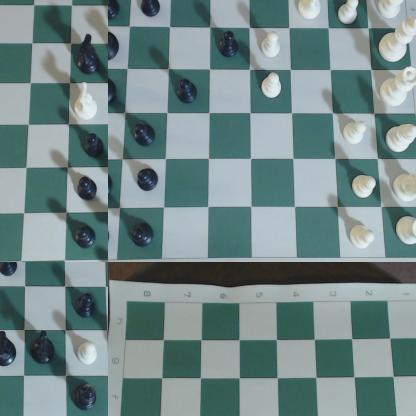black-bishop: (73, 378, 100, 412), (109, 1, 125, 23)
black-king: (109, 13, 122, 63)
black-knight: (75, 35, 103, 78), (1, 329, 20, 368), (109, 165, 116, 204)
black-pawn: (78, 127, 108, 166), (76, 222, 106, 255), (75, 176, 102, 212), (32, 332, 59, 368), (78, 288, 99, 326), (173, 79, 201, 107), (128, 221, 156, 249), (219, 29, 242, 61), (134, 124, 158, 151), (137, 168, 162, 192), (138, 1, 164, 22), (1, 263, 21, 279)
black-queen: (109, 64, 119, 107)
white-bishop: (386, 122, 416, 155), (378, 1, 411, 20)
white-king: (378, 65, 416, 110), (381, 17, 416, 64)
white-knight: (74, 81, 104, 124), (393, 171, 416, 203), (300, 1, 326, 20)
white-pawn: (346, 224, 379, 252), (350, 174, 380, 200), (343, 121, 370, 149), (77, 338, 98, 374), (259, 30, 283, 59), (262, 71, 284, 102), (336, 1, 362, 27)
white-rook: (395, 216, 416, 247)
